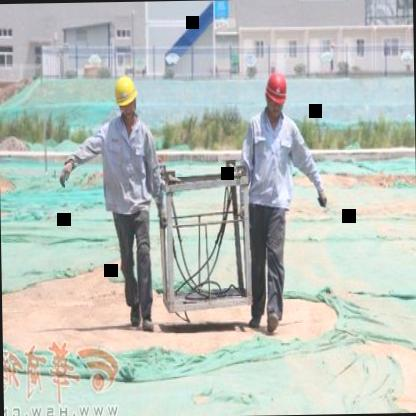helmet: (111, 66, 142, 126), (262, 62, 290, 121)
